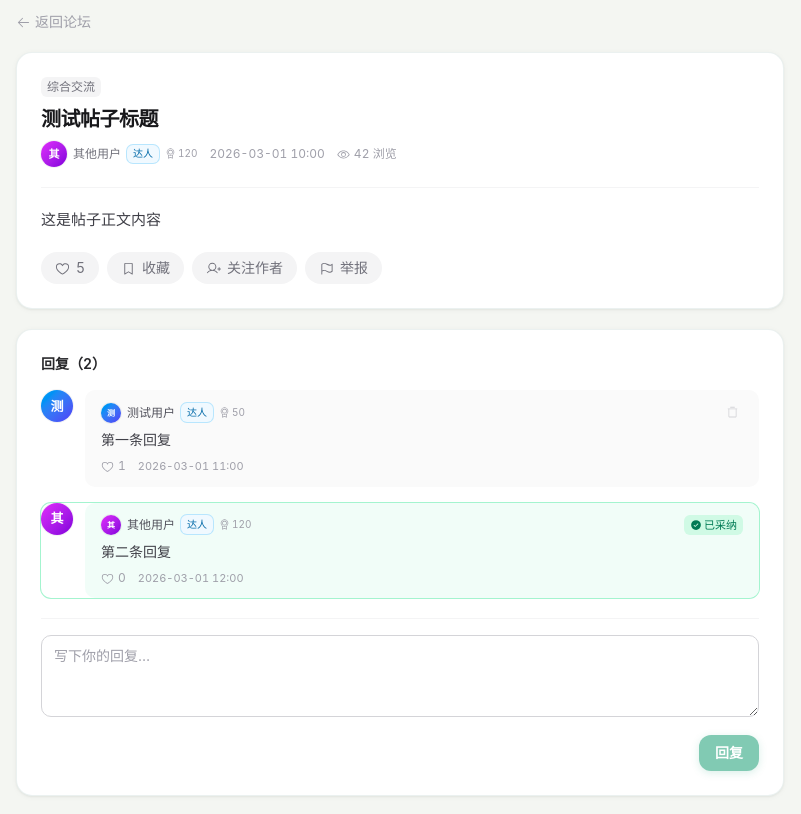
ForumPostPage › 点赞按钮切换状态
# 点击点赞按钮 (Heart 图标旁的 5)
Click the button "5": x=70, y=268 [41, 252, 99, 284]
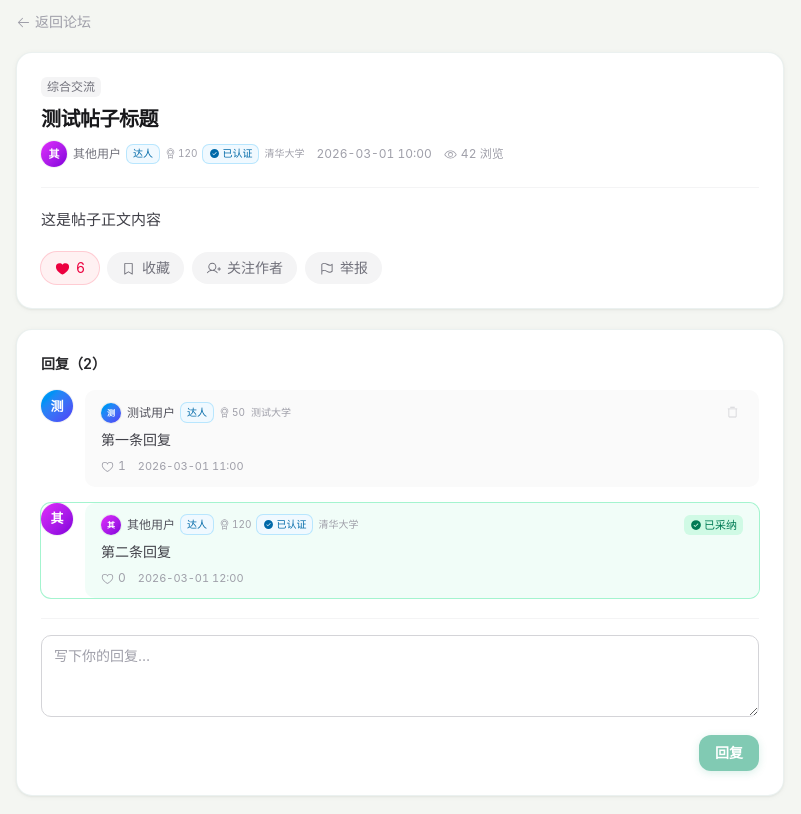
Check: the button "6" is shown, box [41, 252, 99, 284]
